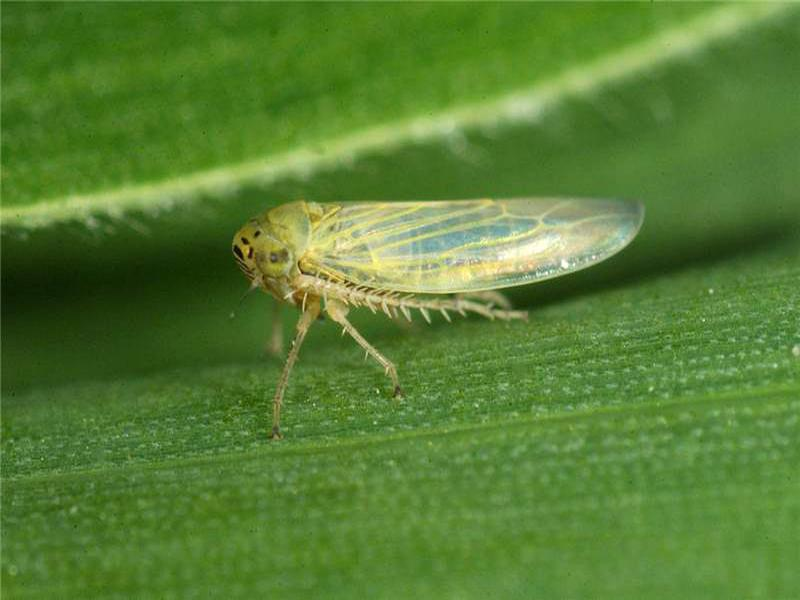Brown_plant_leafhopper: (221, 171, 655, 411)
